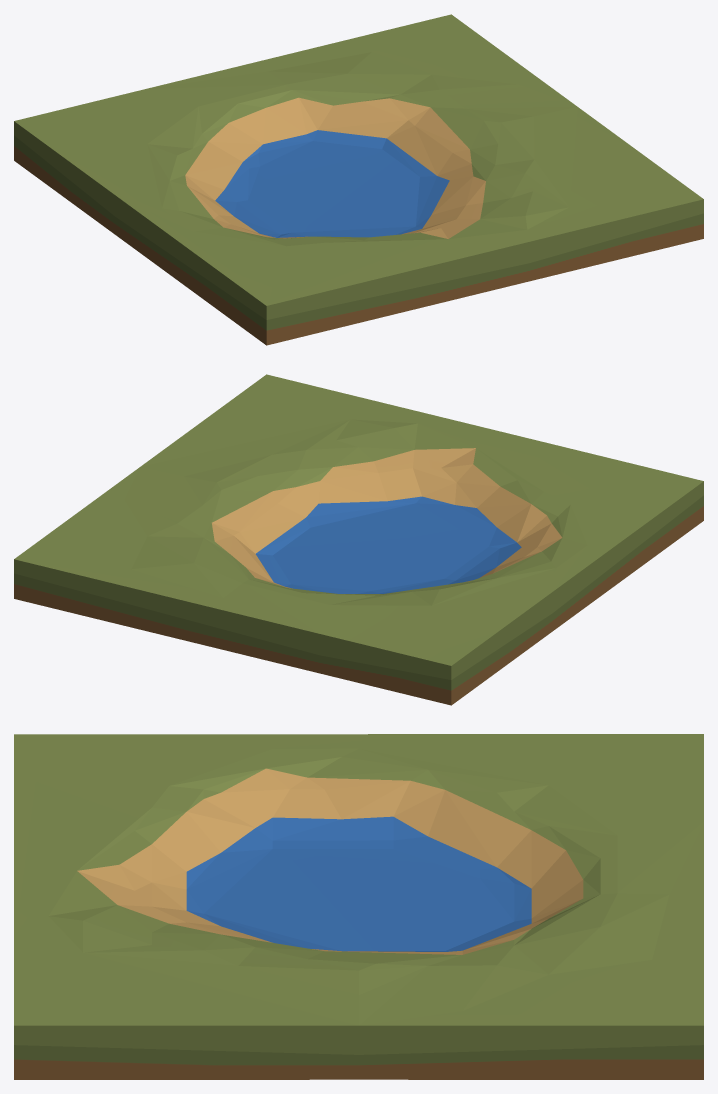
File: SM_Tile_Cube_Pond_02.glb
3 renders of one model, top to bottom at view 1: azimuth 30°, elevation 25°; view 2: azimuth 150°, elevation 25°; view 3: azimuth 270°, elevation 25°, orthographic. The views are drawn at different scales.
Visible parts, largest first — view 1: SM_Tile_Cube_Pond_02; view 2: SM_Tile_Cube_Pond_02; view 3: SM_Tile_Cube_Pond_02.
Boxes of the visible parts, x1,y1,x2,y2 form: SM_Tile_Cube_Pond_02: [14, 14, 703, 345]; SM_Tile_Cube_Pond_02: [14, 374, 703, 705]; SM_Tile_Cube_Pond_02: [14, 734, 703, 1079].
Bounding box in the file's own units: 5 × 0.4659 × 5.
1 material, 1 textured.
